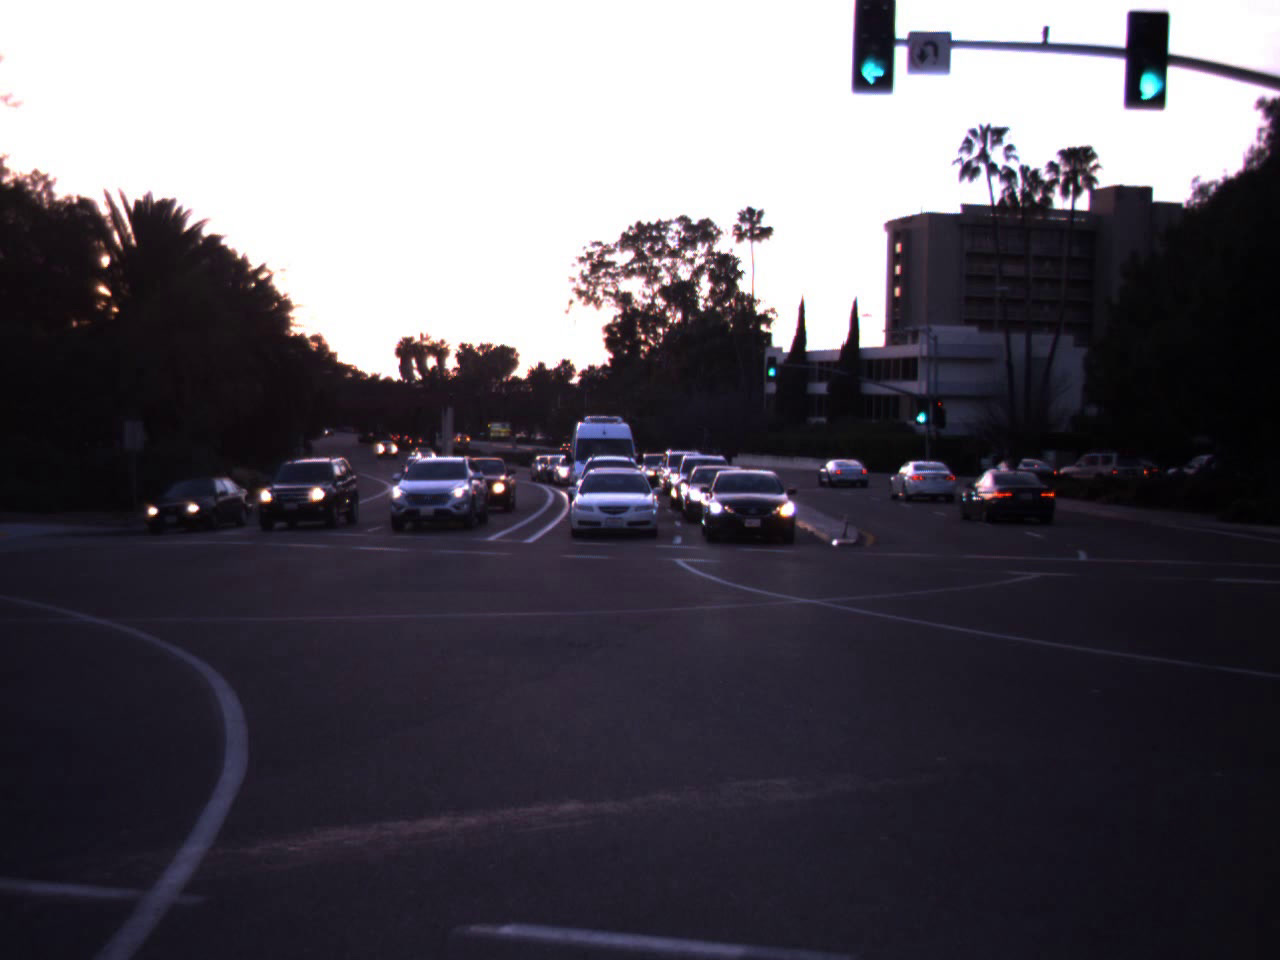go: (833, 0, 916, 104), (1122, 0, 1179, 112), (760, 339, 784, 379), (909, 386, 933, 426)
